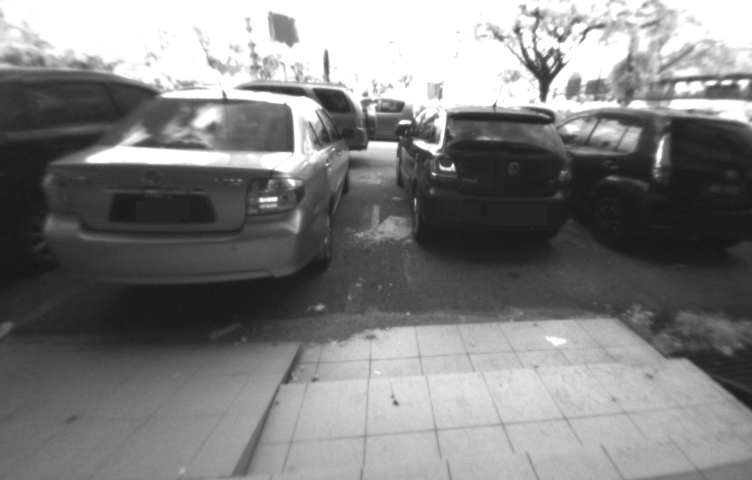down_steps: (278, 318, 717, 480)
mixed_gradient: (196, 327, 338, 480)
uncovered_drainage: (653, 326, 752, 417)
